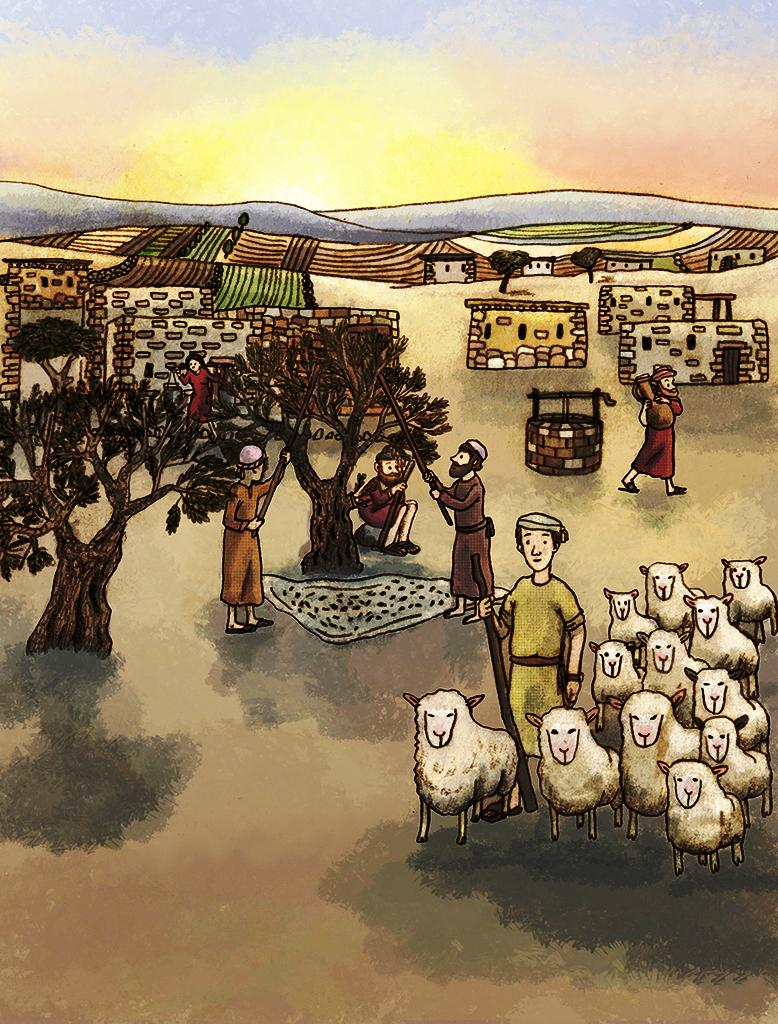Sheep: (387, 672, 514, 854), (658, 762, 765, 882), (525, 702, 610, 846), (685, 710, 778, 812), (615, 687, 668, 825), (682, 657, 762, 740), (686, 582, 746, 686), (582, 630, 654, 708), (723, 548, 778, 638), (632, 616, 695, 694), (634, 544, 688, 618), (596, 578, 642, 638), (745, 675, 747, 688)
